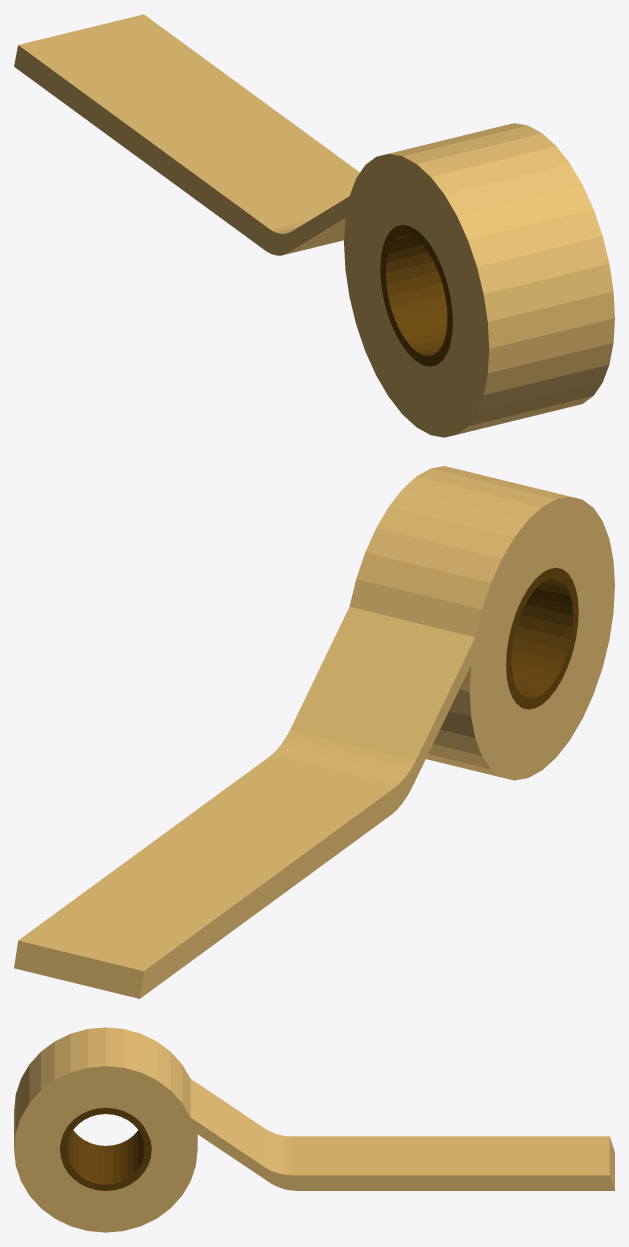
Rendered from Tape.fbx.
3 renders of one model, top to bottom at view 1: azimuth 30°, elevation 25°; view 2: azimuth 150°, elevation 25°; view 3: azimuth 270°, elevation 25°, orthographic. The views are drawn at different scales.
Visible parts, largest first — view 1: Tape Roll, Tape part to be torn and moved, The Paper that holds the tape; view 2: Tape Roll, Tape part to be torn and moved, The Paper that holds the tape; view 3: Tape Roll, Tape part to be torn and moved, The Paper that holds the tape.
Boxes of the visible parts, x1=… form: Tape Roll: x1=209, y1=123, x2=614, y2=437; Tape part to be torn and moved: x1=14, y1=14, x2=338, y2=209; The Paper that holds the tape: x1=380, y1=224, x2=452, y2=366; Tape Roll: x1=214, y1=466, x2=614, y2=855; Tape part to be torn and moved: x1=14, y1=797, x2=338, y2=998; The Paper that holds the tape: x1=506, y1=567, x2=578, y2=709; Tape Roll: x1=14, y1=1027, x2=367, y2=1232; Tape part to be torn and moved: x1=363, y1=1136, x2=614, y2=1190; The Paper that holds the tape: x1=60, y1=1107, x2=151, y2=1190.
Bounding box in the file's own units: 200 × 400 × 1309.
